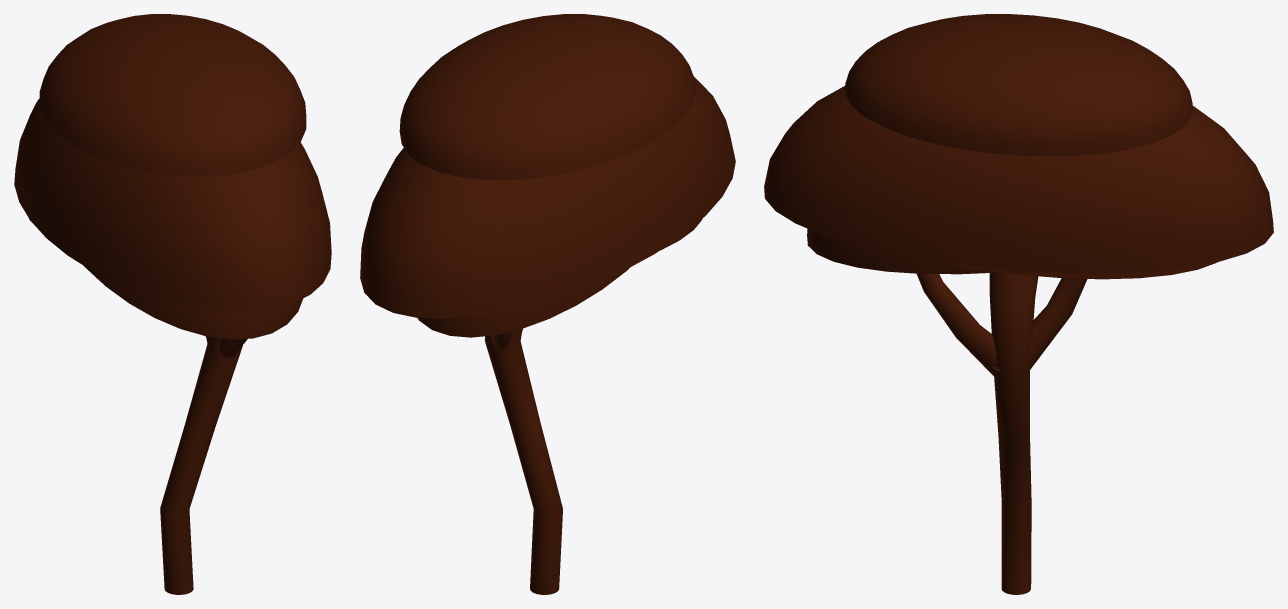
File: SM_blockout_tree01.fbx
The picture shows the model from 3 angles, left to right: view 1: azimuth 30°, elevation 25°; view 2: azimuth 150°, elevation 25°; view 3: azimuth 270°, elevation 25°; orthographic projection.
Parts seen in each view (by area): view 1: Cylinder031; view 2: Cylinder031; view 3: Cylinder031.
Part boxes in pixels (x1,y1,x2,y2): Cylinder031: [14, 14, 331, 594]; Cylinder031: [360, 14, 735, 594]; Cylinder031: [764, 14, 1273, 594].
Size of the model in its own units: 434 by 944 by 786.
